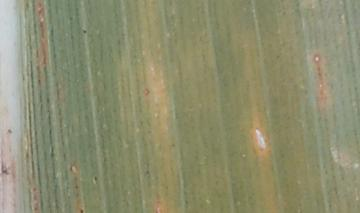tarspot: (1, 156, 12, 176), (144, 167, 152, 178), (5, 127, 14, 135), (81, 28, 89, 35), (67, 15, 75, 22), (92, 175, 99, 181), (78, 208, 85, 213)
